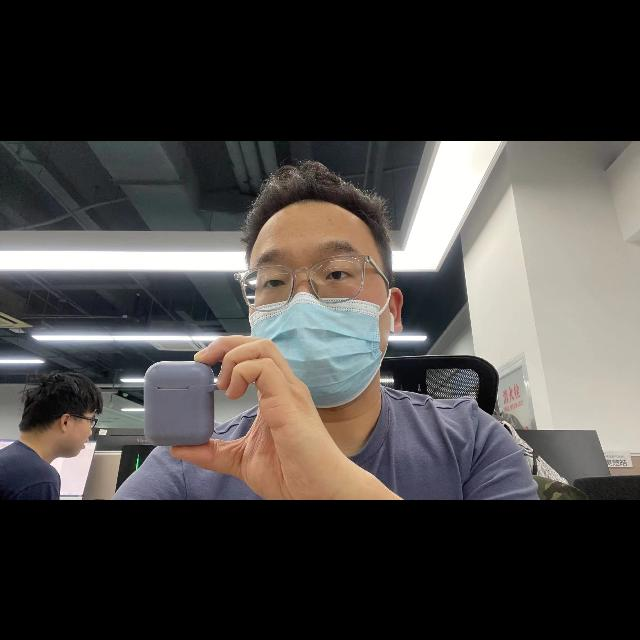airpods: (144, 361, 216, 446)
